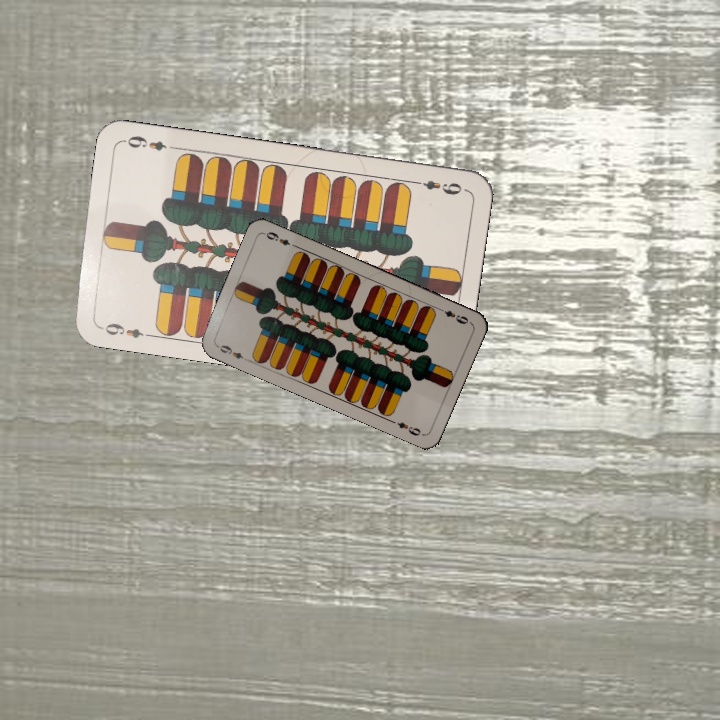E9: (95, 319, 153, 341), (408, 176, 464, 197), (434, 304, 473, 327), (213, 341, 251, 364)
